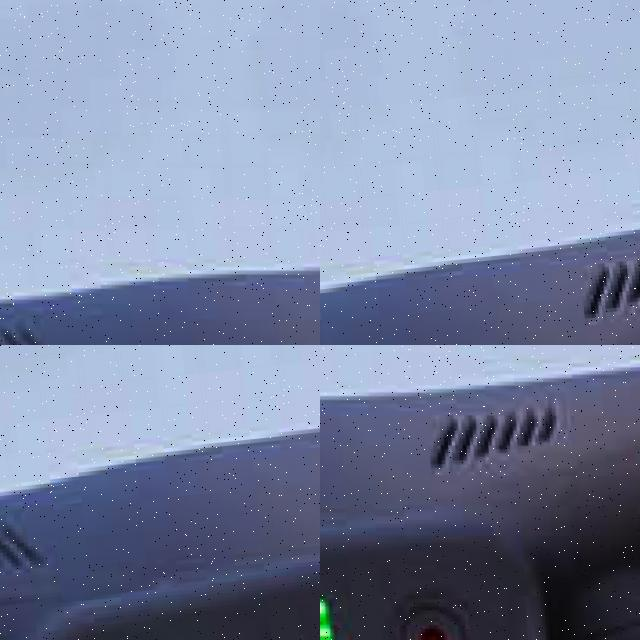drone: (0, 0, 320, 345), (320, 345, 640, 640)
